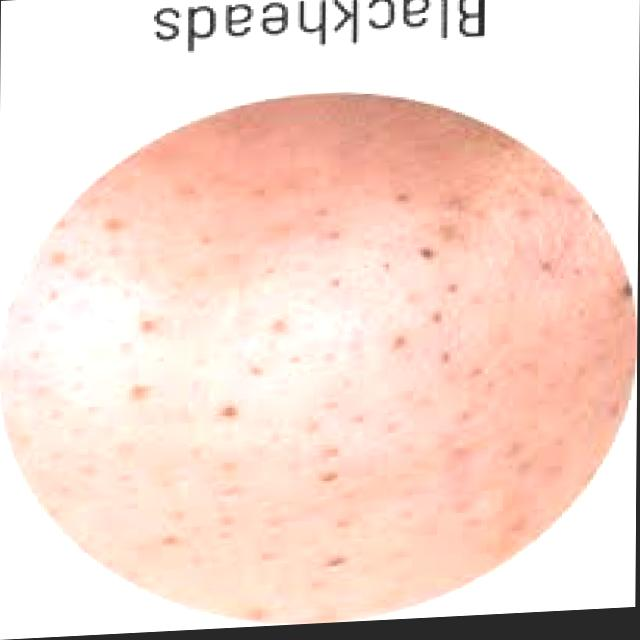dark spot: (196, 392, 258, 437), (131, 307, 177, 346), (302, 554, 363, 577), (115, 375, 153, 406), (434, 273, 466, 306), (262, 313, 297, 339), (308, 469, 345, 493), (318, 220, 346, 249), (343, 404, 371, 432), (406, 244, 435, 271), (414, 306, 444, 332), (156, 523, 180, 554), (431, 347, 459, 372), (241, 360, 272, 382), (384, 332, 412, 355), (311, 445, 345, 463), (327, 273, 347, 293)
